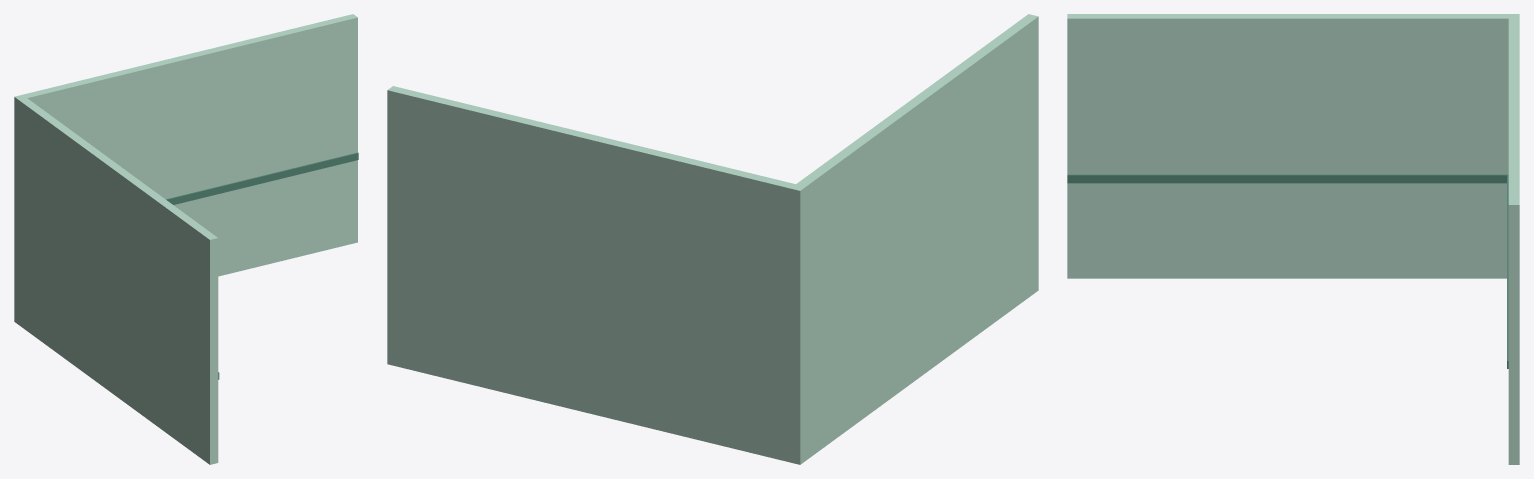
Rendered from walls_paint.067e55a99ca6.glb.
3 views of the same model, side by side, from view 1: azimuth 30°, elevation 25°; view 2: azimuth 150°, elevation 25°; view 3: azimuth 270°, elevation 25° (orthographic). The views are drawn at different scales.
Visible parts, largest first — view 1: walls_paint; view 2: walls_paint; view 3: walls_paint.
Part boxes in pixels (x1,y1,x2,y2): walls_paint: (14,14,358,464); walls_paint: (387,14,1038,464); walls_paint: (1067,14,1519,464).
Bounding box in the file's own units: 4.1 × 2.6 × 4.1.
